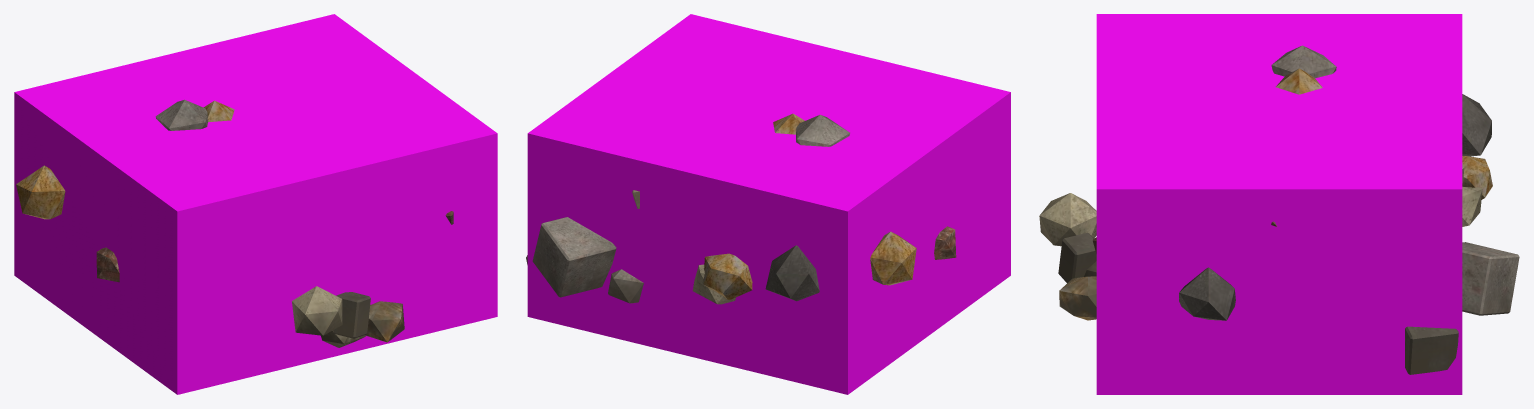
File: prop_rubble_large.glb
The picture shows the model from 3 angles, left to right: view 1: azimuth 30°, elevation 25°; view 2: azimuth 150°, elevation 25°; view 3: azimuth 270°, elevation 25°; orthographic projection. The views are drawn at different scales.
Visible parts, largest first — view 1: prop_rubble_large-col, Rubble; view 2: prop_rubble_large-col, Rubble; view 3: prop_rubble_large-col, Rubble.
Part boxes in pixels (x1,y1,x2,y2): prop_rubble_large-col: (14, 14, 497, 394); Rubble: (16, 99, 453, 347); prop_rubble_large-col: (527, 14, 1010, 394); Rubble: (526, 113, 956, 304); prop_rubble_large-col: (1096, 14, 1462, 394); Rubble: (1039, 45, 1519, 374).
Size of the model in its own units: 1.95 by 1.01 by 1.92.
Materials: 2 (1 with a texture image).
